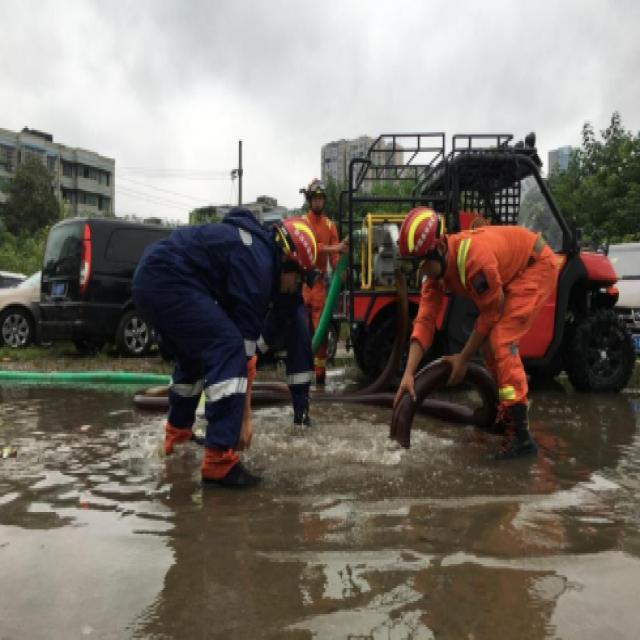rescuer: (146, 198, 324, 486), (394, 190, 566, 472), (291, 177, 346, 329)
